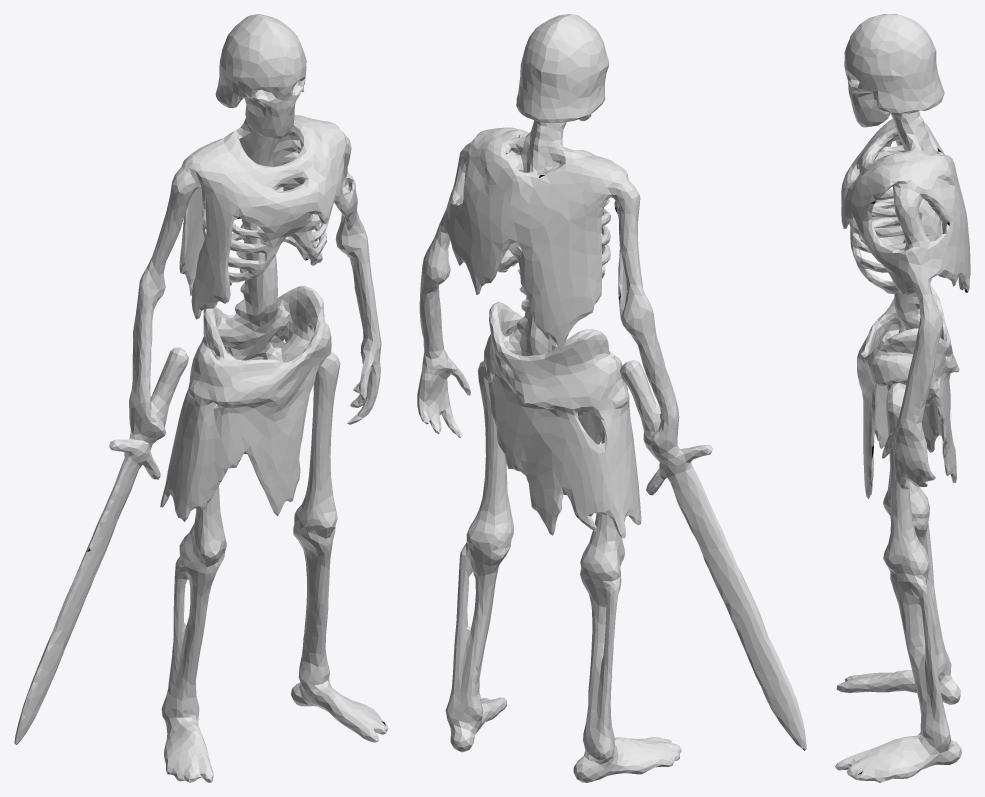
Rendered from enemy_skel_melee.glb.
3 views of the same model, side by side, from view 1: azimuth 30°, elevation 25°; view 2: azimuth 150°, elevation 25°; view 3: azimuth 270°, elevation 25° (orthographic). The views are drawn at different scales.
Visible parts, largest first — view 1: Low; view 2: Low; view 3: Low.
Boxes of the visible parts, bbox=[...] form: Low: bbox=[14, 14, 388, 782]; Low: bbox=[417, 14, 806, 782]; Low: bbox=[835, 14, 970, 782].
Bounding box in the file's own units: 1.07 × 1.98 × 0.3402.
1 material, 1 textured.
